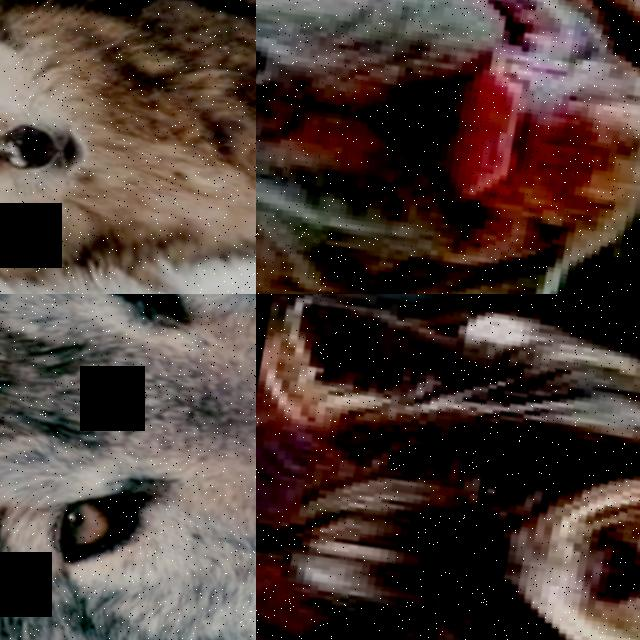dog: (256, 294, 640, 640), (256, 0, 640, 294)
wolf: (0, 294, 256, 640), (0, 0, 256, 294)
